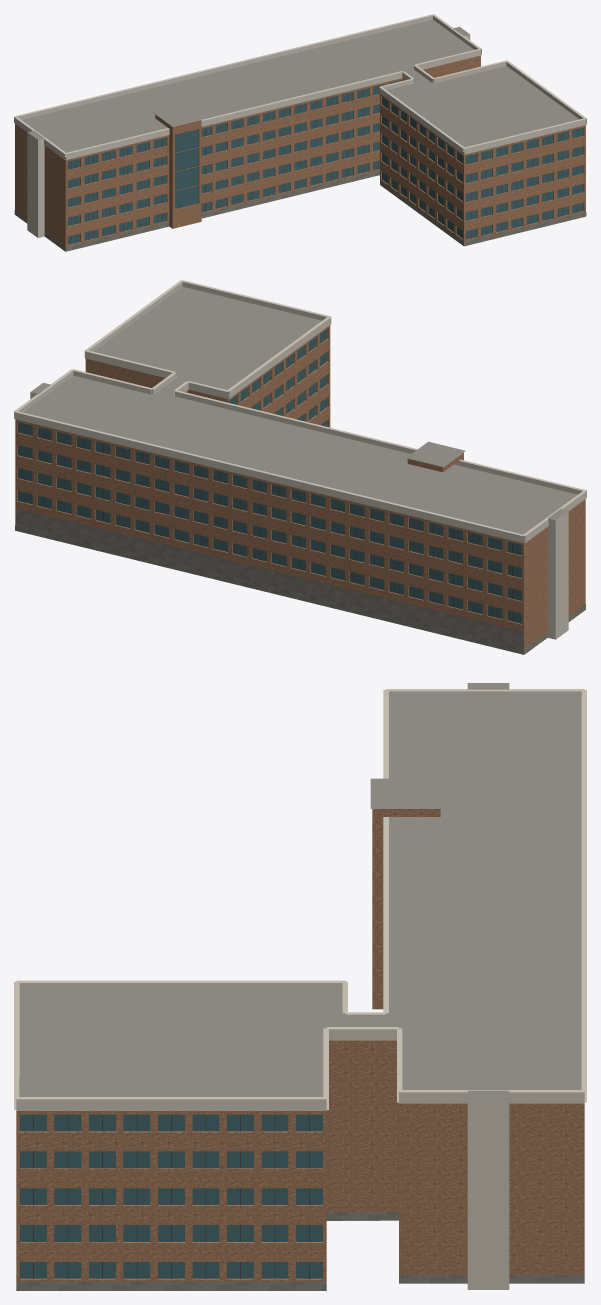
3 renders of one model, top to bottom at view 1: azimuth 30°, elevation 25°; view 2: azimuth 150°, elevation 25°; view 3: azimuth 270°, elevation 25°, orthographic. The views are drawn at different scales.
Visible parts, largest first — view 1: eng3__wall, eng3__roof, eng3__glass, eng3__trim, eng3__base, eng3__frame; view 2: eng3__wall, eng3__roof, eng3__glass, eng3__trim, eng3__base, eng3__frame; view 3: eng3__roof, eng3__wall, eng3__trim, eng3__glass, eng3__base, eng3__frame.
Part boxes in pixels (<box>): eng3__wall: <box>15,55,585,251</box>; eng3__roof: <box>22,19,579,157</box>; eng3__glass: <box>67,80,583,244</box>; eng3__trim: <box>14,14,586,237</box>; eng3__base: <box>14,170,586,251</box>; eng3__frame: <box>71,82,577,243</box>; eng3__wall: <box>15,325,585,654</box>; eng3__roof: <box>23,286,577,540</box>; eng3__glass: <box>18,329,521,623</box>; eng3__trim: <box>14,280,586,639</box>; eng3__base: <box>15,508,585,654</box>; eng3__frame: <box>25,330,517,622</box>; eng3__roof: <box>19,683,581,1220</box>; eng3__wall: <box>16,809,584,1281</box>; eng3__trim: <box>14,689,586,1289</box>; eng3__glass: <box>20,1114,322,1278</box>; eng3__base: <box>16,1212,584,1290</box>; eng3__frame: <box>33,1114,309,1278</box>.
Size of the model in its own units: 89.57 by 20.32 by 52.15.
Materials: 6 (2 with a texture image).
